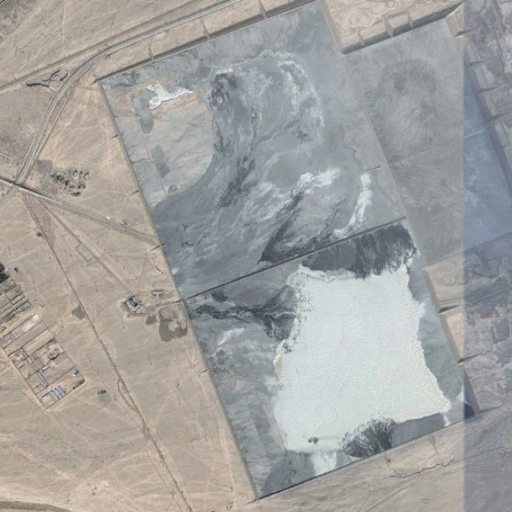tp: (101, 3, 507, 498)
